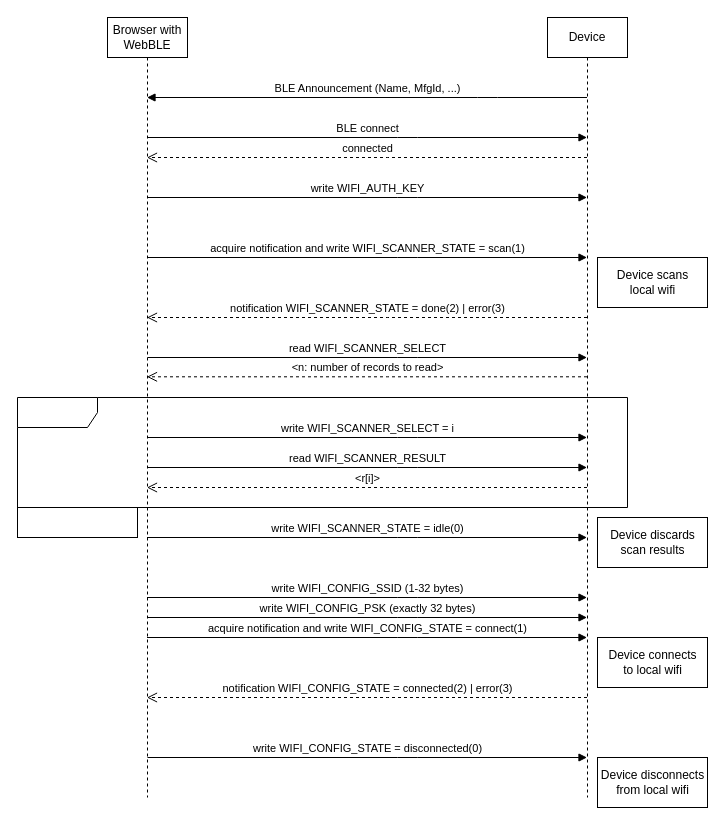
Some shapes in this 725 by 825 pixel diagram are drawn without their labels. Here are the shapes that lost their labels. From the top down, the centre of each, then its label:
[322,452]: for(i: 0..n-1)
[77,522]: result = r[0]....r[n-1]
